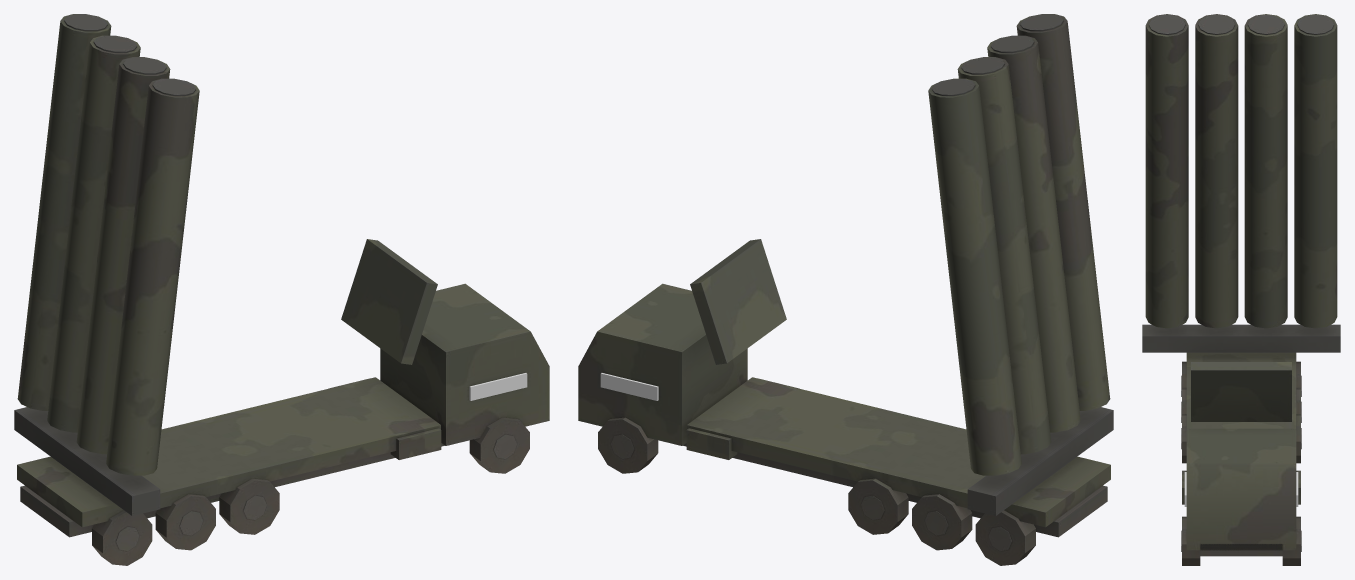
The picture shows the model from 3 angles, left to right: view 1: azimuth 30°, elevation 25°; view 2: azimuth 150°, elevation 25°; view 3: azimuth 270°, elevation 25°; orthographic projection. The views are drawn at different scales.
Visible parts, largest first — view 1: g_s400_hull; view 2: g_s400_hull; view 3: g_s400_hull.
Boxes of the visible parts, x1,y1,x2,y2 form: g_s400_hull: (14,14,549,565); g_s400_hull: (578,14,1113,565); g_s400_hull: (1142,14,1340,565).
Bounding box in the file's own units: 10 × 9.69 × 4.32.
2 materials, 1 textured.
